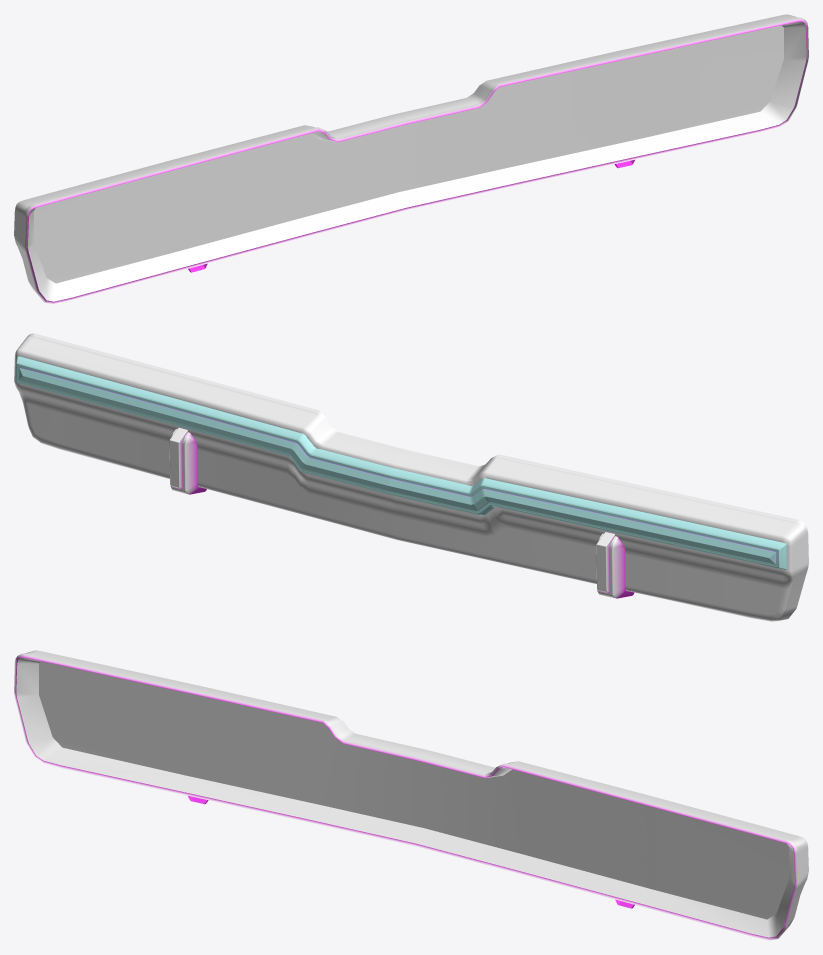
The model's file is Car_Buick_GrandNational_1987_BumperR_SetA.fbx.
3 renders of one model, top to bottom at view 1: azimuth 30°, elevation 25°; view 2: azimuth 150°, elevation 25°; view 3: azimuth 330°, elevation 25°, orthographic.
Parts seen in each view (by area): view 1: BumperR 6; view 2: BumperR 6; view 3: BumperR 6.
Boxes of the visible parts, x1=… form: BumperR 6: x1=14, y1=14, x2=808, y2=304; BumperR 6: x1=14, y1=333, x2=808, y2=621; BumperR 6: x1=14, y1=650, x2=808, y2=940.
Bounding box in the file's own units: 1.74 × 0.2362 × 0.1166.
